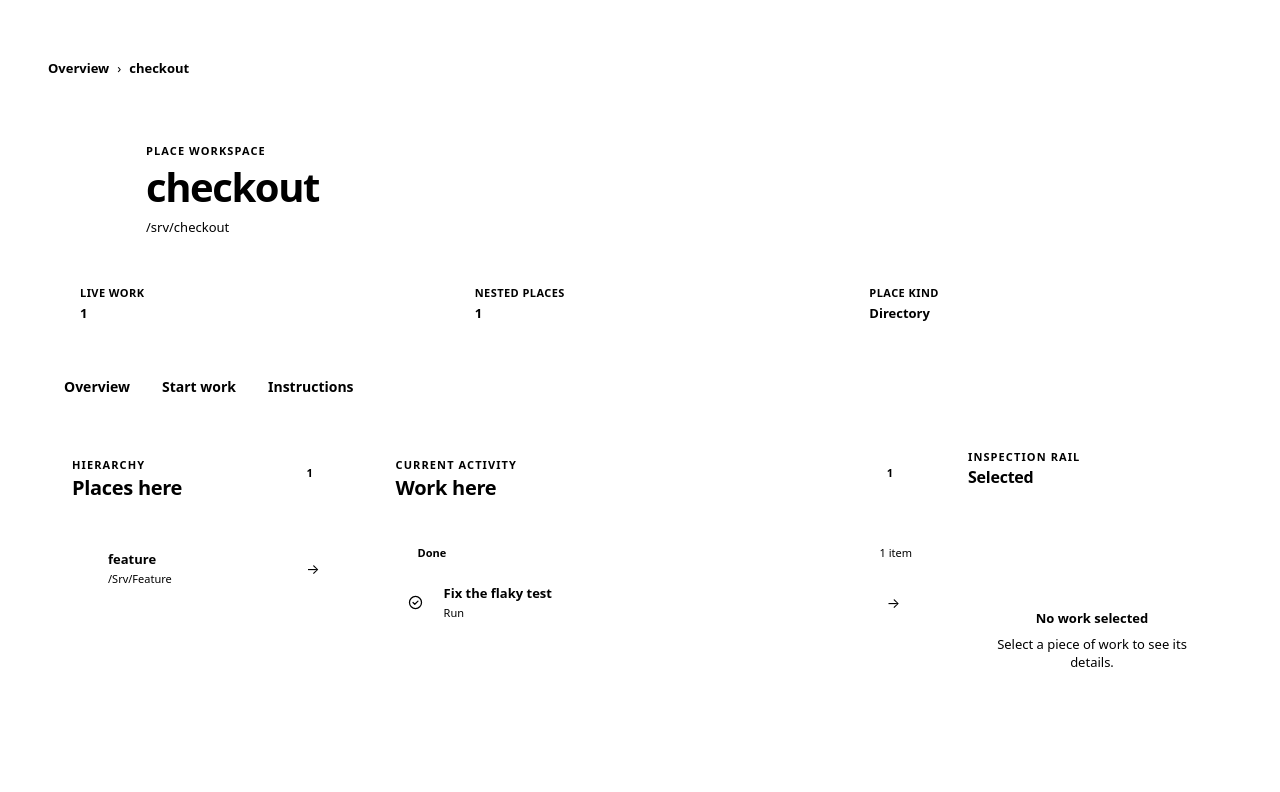
Test: the page of one place › shows the details of the work the operator picks
Click the button "Fix the flaky test run →" at {"x": 498, "y": 593}, box x1=388 y1=574 x2=912 y2=632
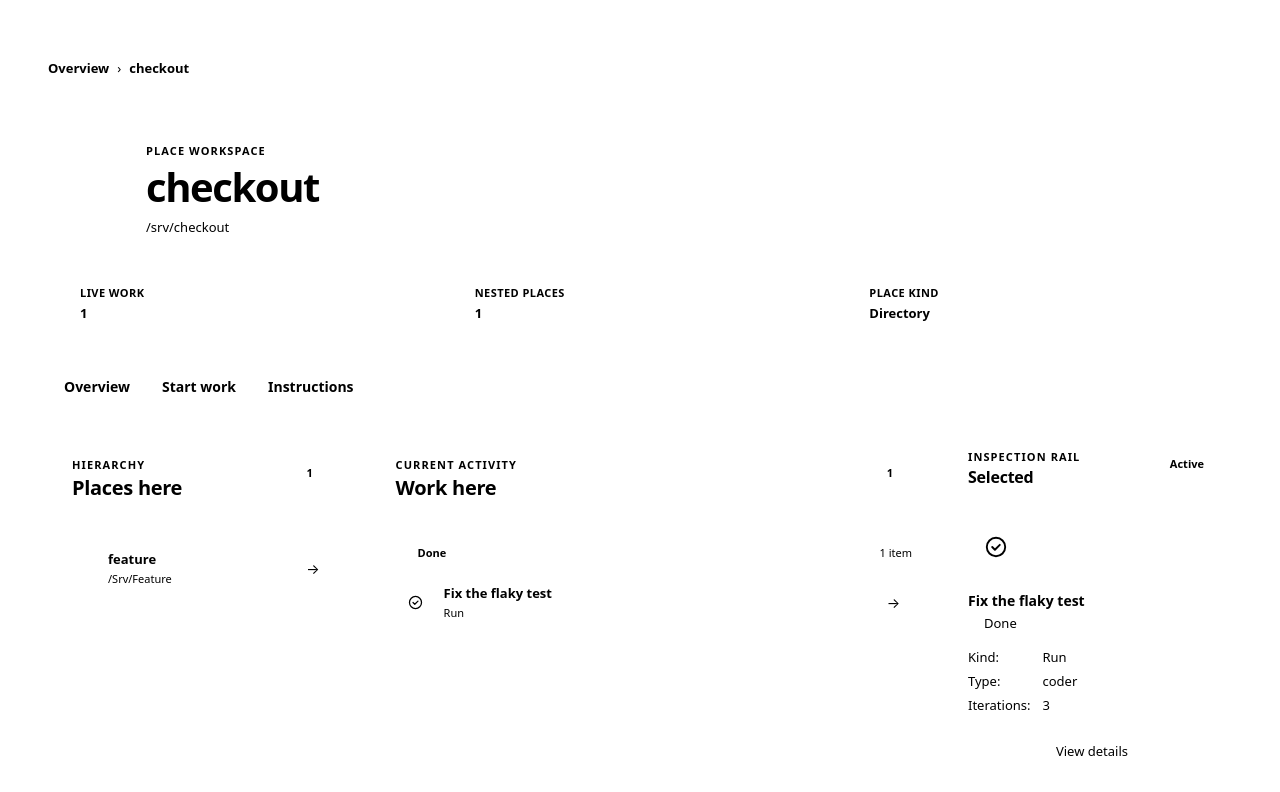
Expected: the text "Fix the flaky test" below "Selected" is shown, x1=968 y1=591 x2=1085 y2=610
Expected: the text "Done" is shown, x1=984 y1=614 x2=1017 y2=632
